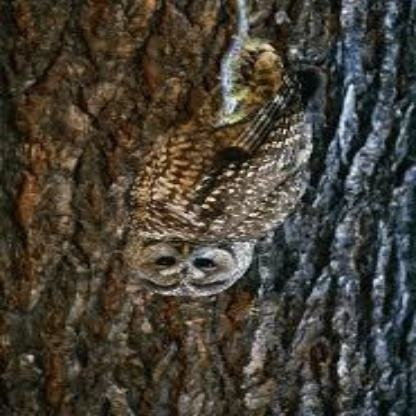Owl: (130, 75, 300, 288)
